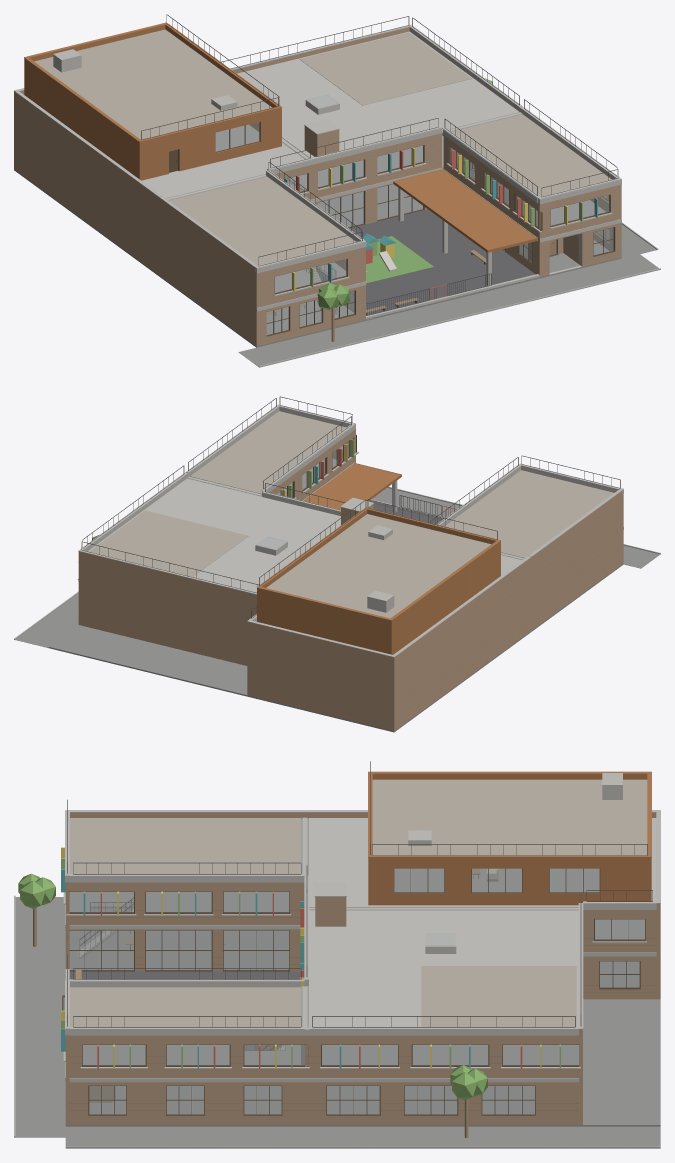
File: clay-courtyard-primary-school-clay-v004.glb
The picture shows the model from 3 angles, top to bottom: view 1: azimuth 30°, elevation 25°; view 2: azimuth 150°, elevation 25°; view 3: azimuth 270°, elevation 25°; orthographic projection. The views are drawn at different scales.
Parts seen in each view (by area): view 1: CLAY_ROOF, CLAY_WALL, CLAY_CORTEN, CLAY_MEMBRANE, CLAY_PALE, CLAY_FOUNDATION, CLAY_GLASS, CLAY_COURT, CLAY_HARDWARE, CLAY_FLOOR, CLAY_TRIM, CLAY_PLAY (+7 smaller); view 2: CLAY_WALL, CLAY_ROOF, CLAY_CORTEN, CLAY_MEMBRANE, CLAY_FOUNDATION, CLAY_PALE, CLAY_HARDWARE, CLAY_GLASS; view 3: CLAY_ROOF, CLAY_FOUNDATION, CLAY_WALL, CLAY_GLASS, CLAY_MEMBRANE, CLAY_PALE, CLAY_FLOOR, CLAY_CORTEN, CLAY_TRIM, CLAY_HARDWARE, CLAY_STONE, CLAY_COURT (+4 smaller).
Boxes of the visible parts, box(x1,y1,x2,y2) form: CLAY_ROOF: box(34, 29, 611, 265); CLAY_WALL: box(14, 27, 621, 346); CLAY_CORTEN: box(24, 22, 537, 252); CLAY_MEMBRANE: box(142, 31, 519, 198); CLAY_PALE: box(14, 24, 621, 319); CLAY_FOUNDATION: box(14, 162, 658, 367); CLAY_GLASS: box(215, 95, 613, 334); CLAY_COURT: box(320, 209, 538, 319); CLAY_HARDWARE: box(141, 14, 618, 316); CLAY_FLOOR: box(168, 114, 605, 292); CLAY_TRIM: box(169, 122, 615, 336); CLAY_PLAY: box(366, 236, 433, 283); CLAY_WALL: box(78, 429, 623, 730); CLAY_ROOF: box(89, 411, 613, 618); CLAY_CORTEN: box(256, 463, 500, 654); CLAY_MEMBRANE: box(88, 478, 521, 592); CLAY_FOUNDATION: box(15, 488, 660, 732); CLAY_PALE: box(77, 404, 623, 657); CLAY_HARDWARE: box(81, 396, 620, 618); CLAY_GLASS: box(257, 438, 352, 549); CLAY_ROOF: box(70, 779, 647, 1026); CLAY_FOUNDATION: box(14, 897, 660, 1148); CLAY_WALL: box(65, 811, 660, 1124); CLAY_GLASS: box(63, 868, 644, 1114); CLAY_MEMBRANE: box(309, 818, 656, 1027); CLAY_PALE: box(63, 773, 660, 1082); CLAY_FLOOR: box(69, 818, 644, 1064); CLAY_CORTEN: box(368, 771, 651, 905); CLAY_TRIM: box(62, 868, 645, 1115); CLAY_HARDWARE: box(67, 761, 652, 1050); CLAY_STONE: box(14, 895, 660, 1148); CLAY_COURT: box(69, 971, 304, 1064).
Size of the model in its own units: 46 by 12.98 by 50.03.
